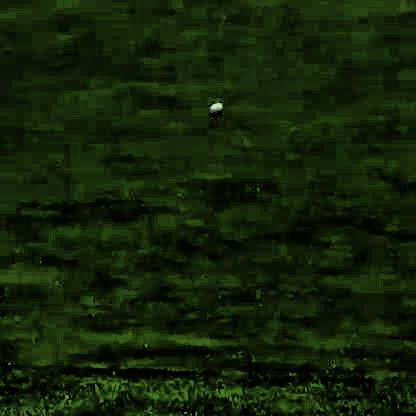golfball: (207, 100, 222, 114)
